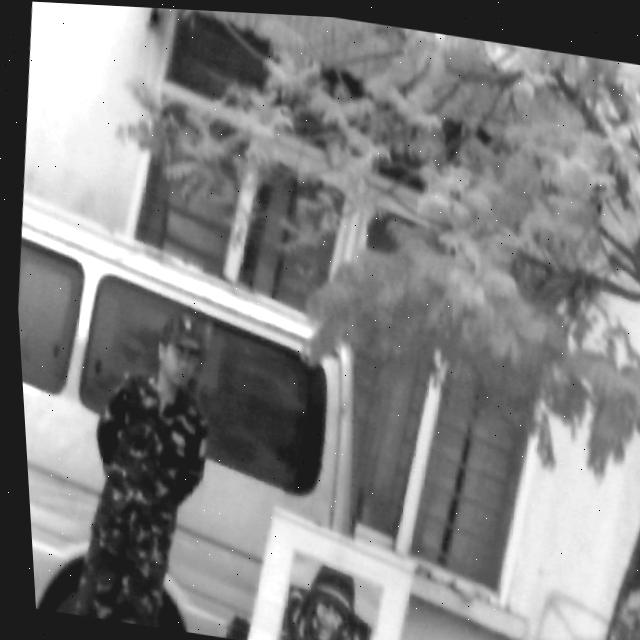bia: (268, 547, 375, 640)
